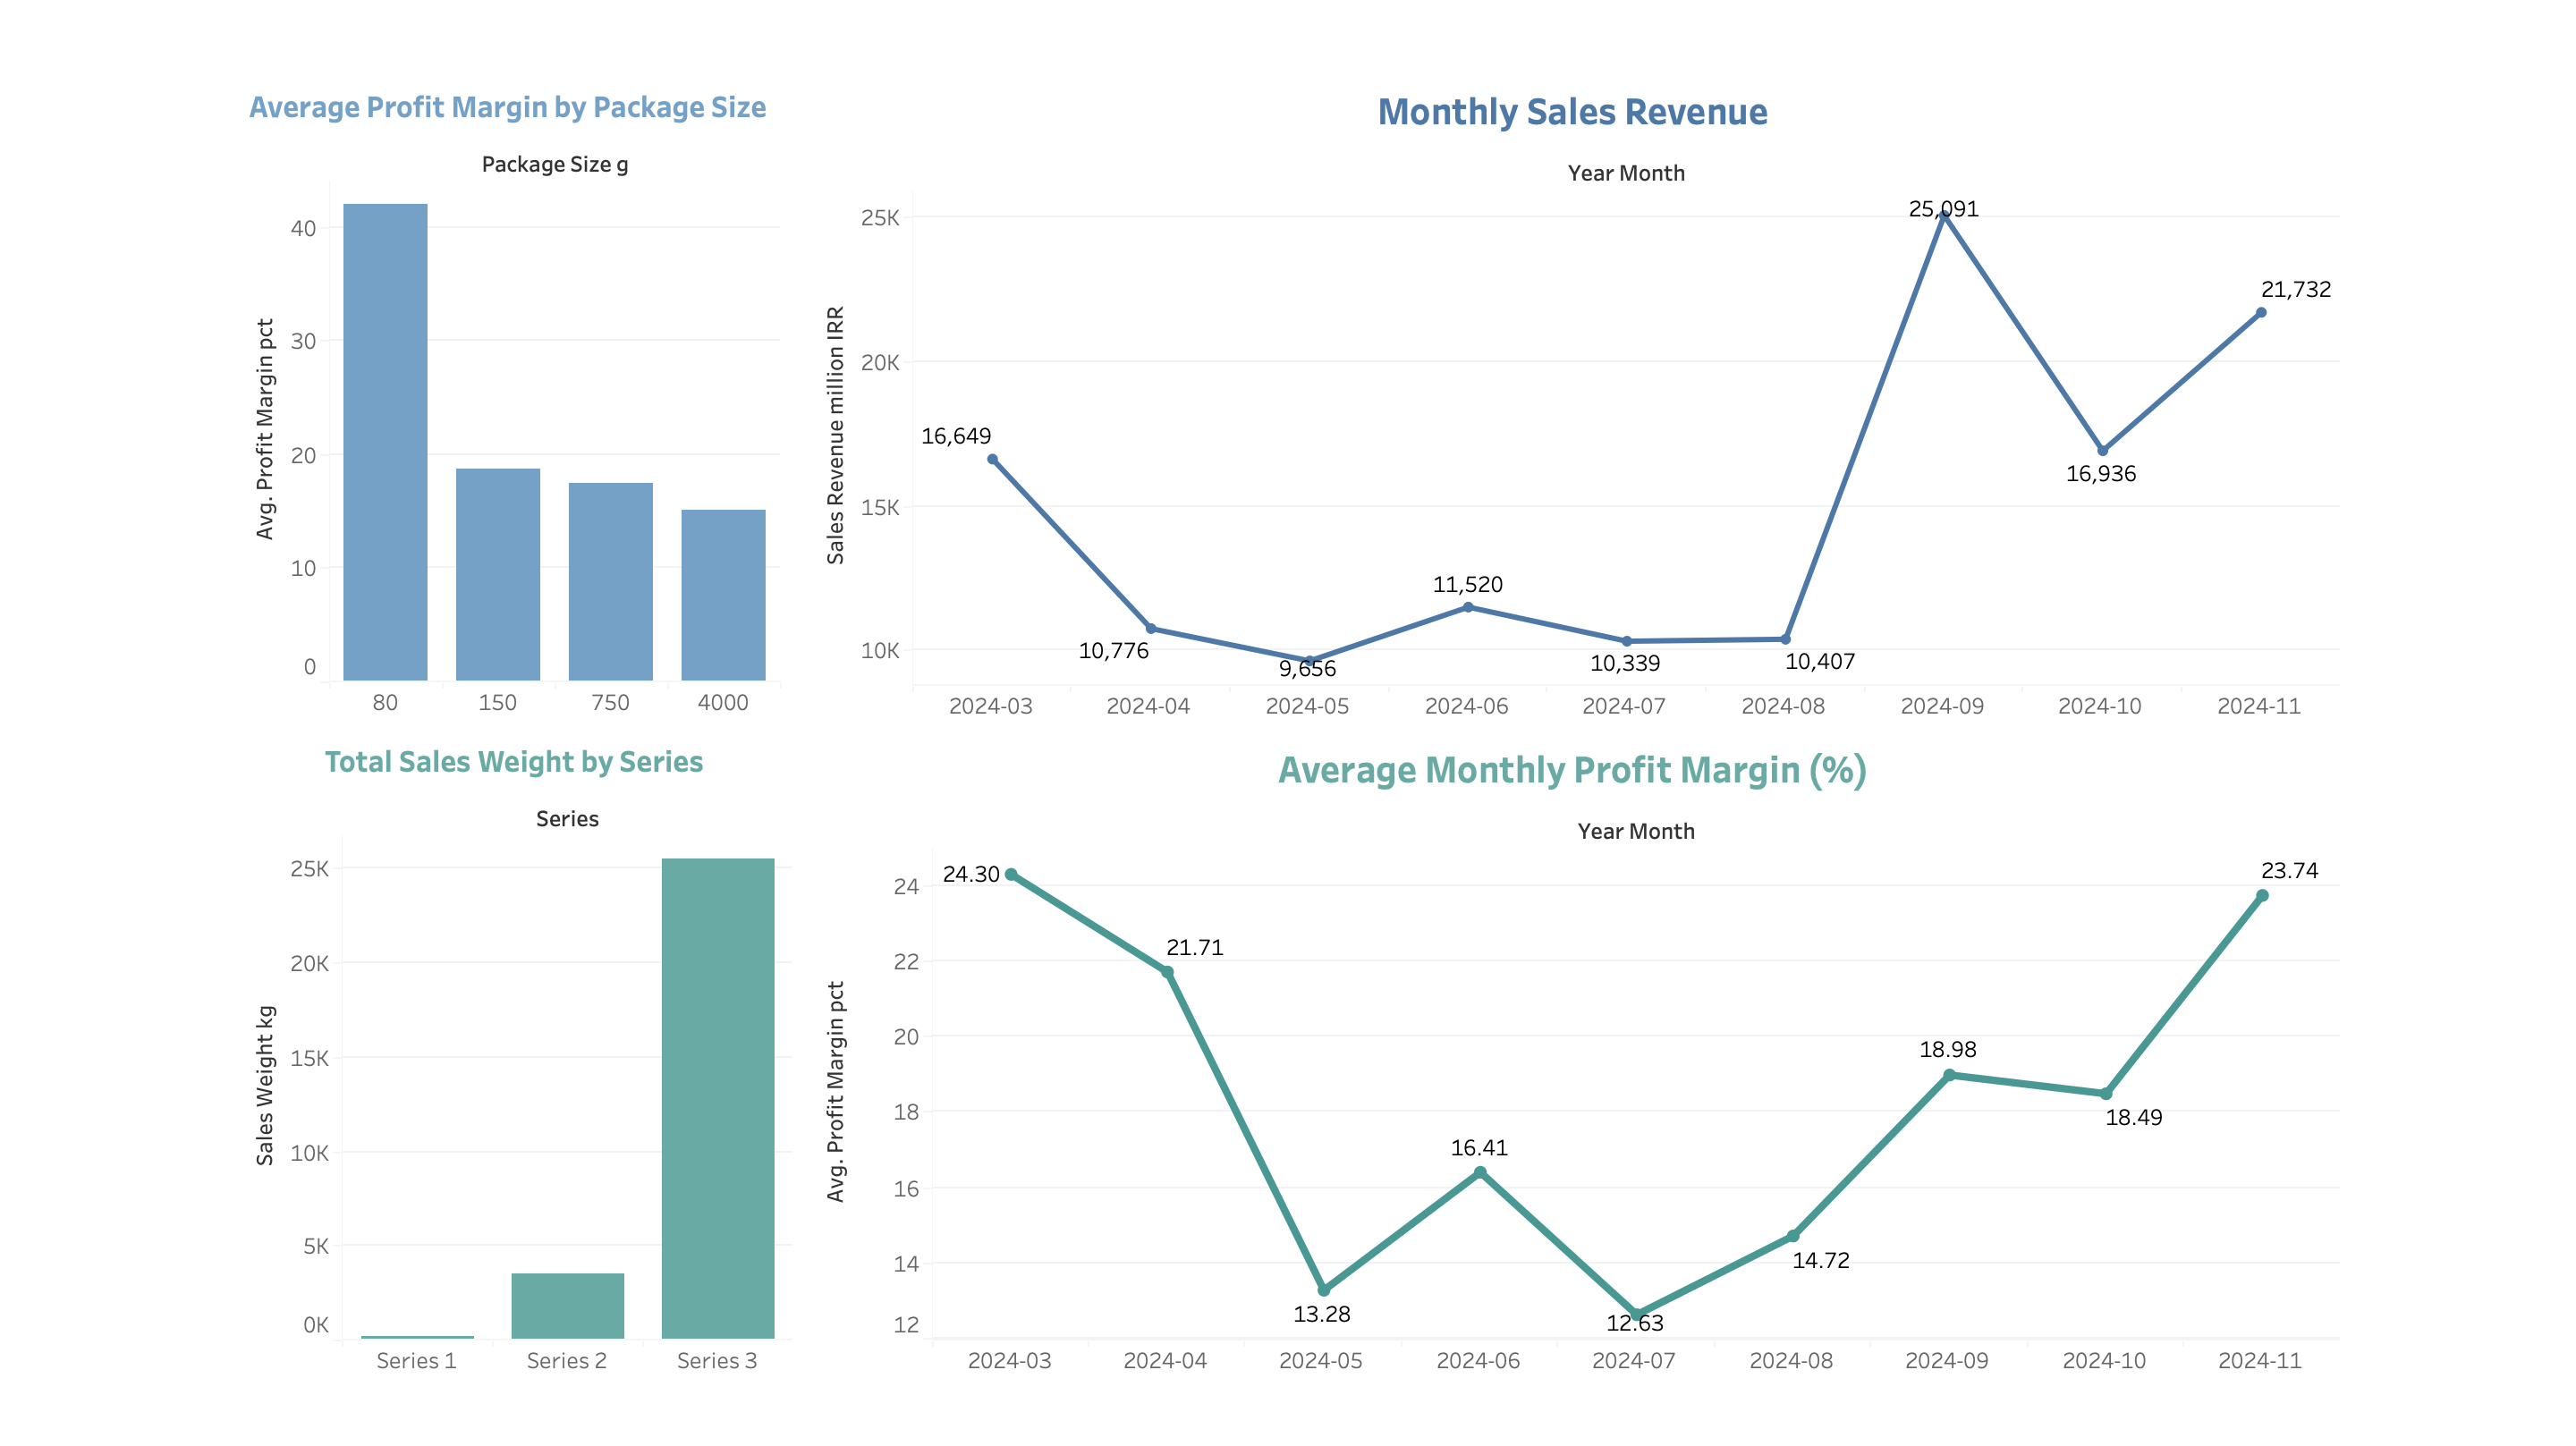

What the dashboard file says about the page in this screenshot:
{"tool":"tableau","page":{"name":"Dashboard 1","canvas":[1000,1000],"units":"permille","ordinal":0},"visuals":[{"type":"worksheet","title":"Sheet 3","mark":"Automatic","rows":["Profit_Margin_pct"],"cols":["Package_Size_g"],"box":[6.7,10.7,265.7,487.9]},{"type":"worksheet","title":"Sheet 1","mark":"Line","rows":["Sales_Revenue_million_IRR"],"cols":["YearMonth"],"box":[272.4,10.7,721,490]},{"type":"worksheet","title":"Sheet 4","mark":"Bar","rows":["Sales_Weight_kg"],"cols":["Series"],"box":[6.7,498.6,265.7,490.8]},{"type":"worksheet","title":"Sheet 2","mark":"Line","rows":["Profit_Margin_pct"],"cols":["YearMonth"],"box":[272.4,500.7,721,488.6]}]}

Visuals, with their boxes on the dashboard's canvas, which has no fixed pixel size, in thousandths of its width and height (x1, y1, x2, y2). These are canvas units, not pixel positions in the 2576x1446 screenshot, which may show the page scaled, cropped or inside an application window:
"Sheet 3" worksheet: 7, 11, 272, 499
"Sheet 1" worksheet (Line marks): 272, 11, 993, 501
"Sheet 4" worksheet (Bar marks): 7, 499, 272, 989
"Sheet 2" worksheet (Line marks): 272, 501, 993, 989
